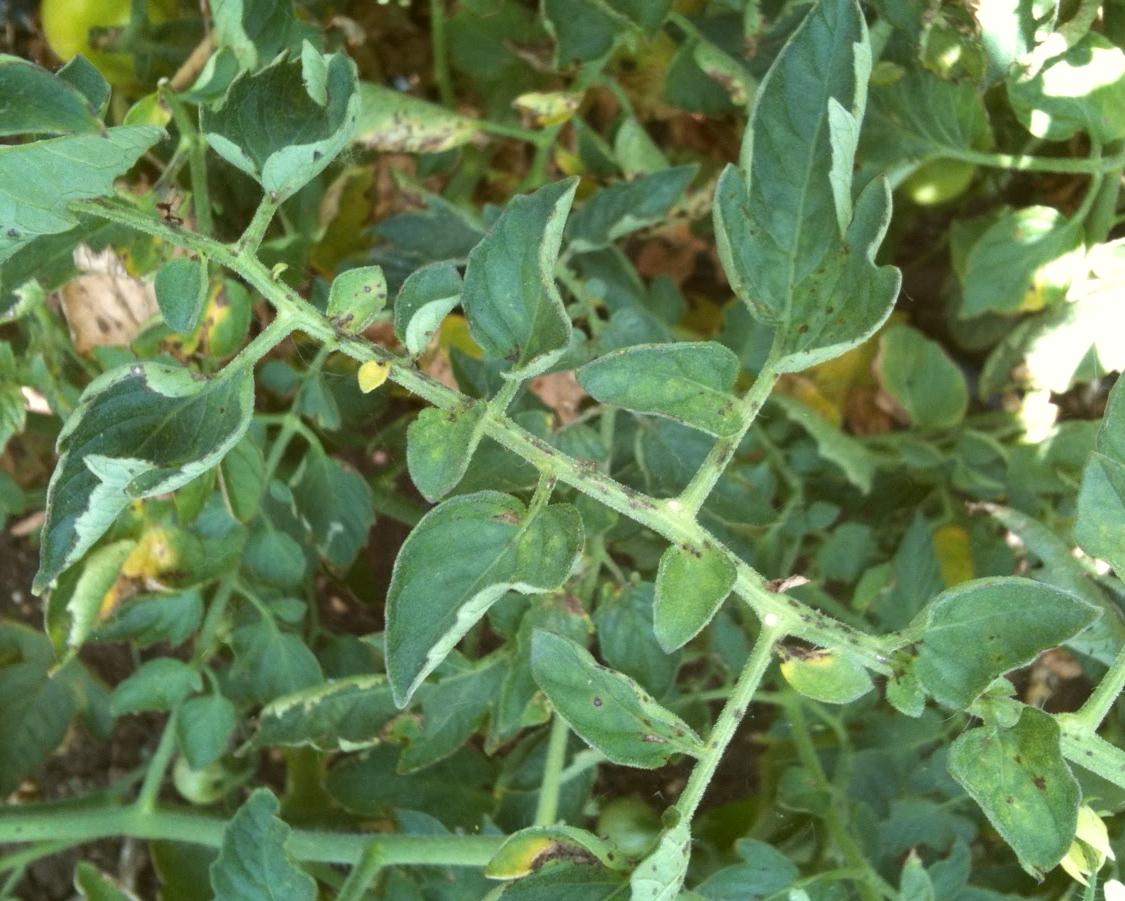Tomato leaf bacterial spot: (0, 302, 304, 612), (704, 0, 934, 369), (366, 486, 593, 696), (847, 563, 1107, 706), (938, 686, 1106, 886), (544, 310, 775, 451), (519, 624, 713, 790), (298, 246, 398, 345)
